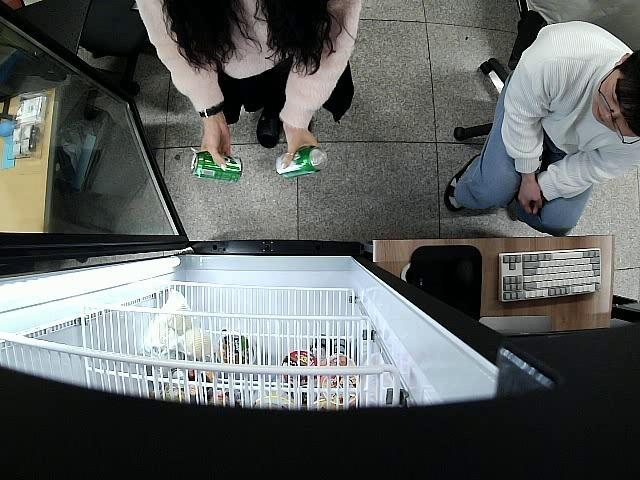12_chilsungCider: (188, 150, 244, 185), (276, 146, 328, 180)
